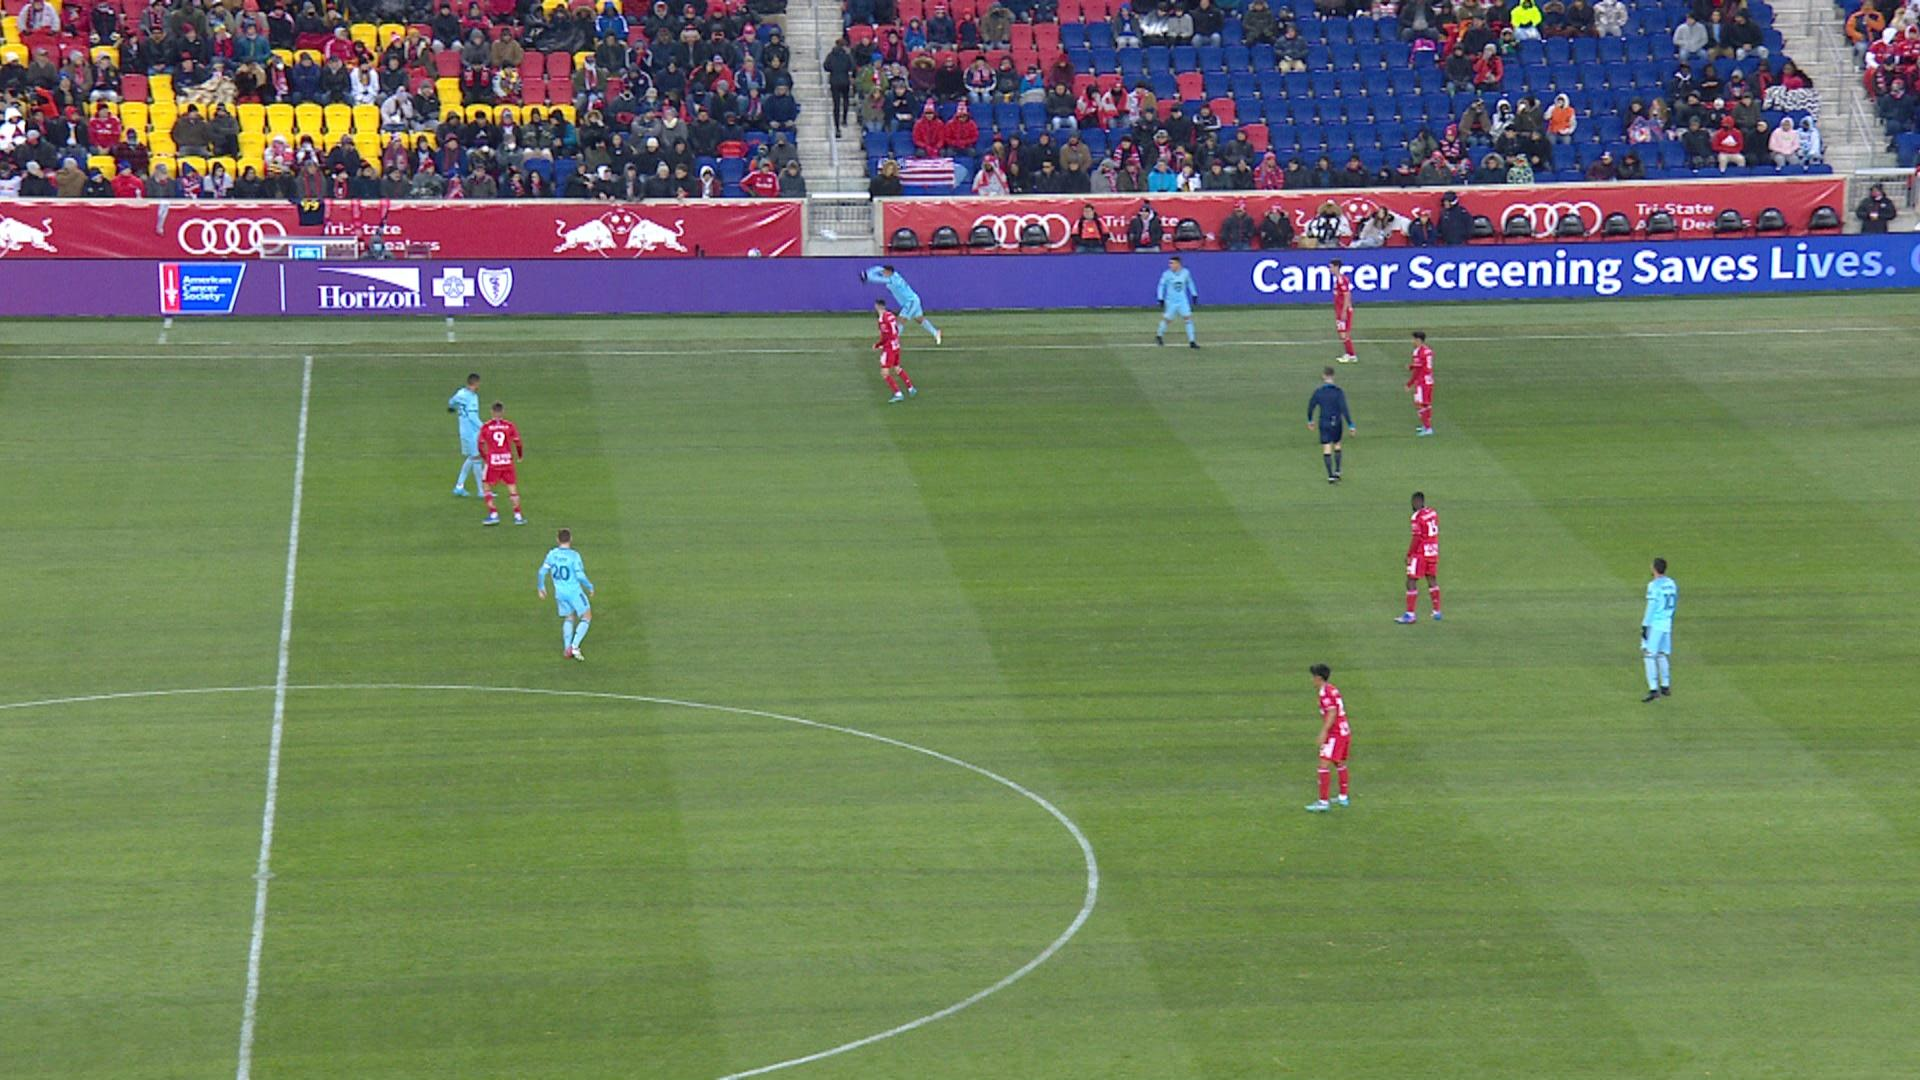football: (824, 231, 835, 240)
